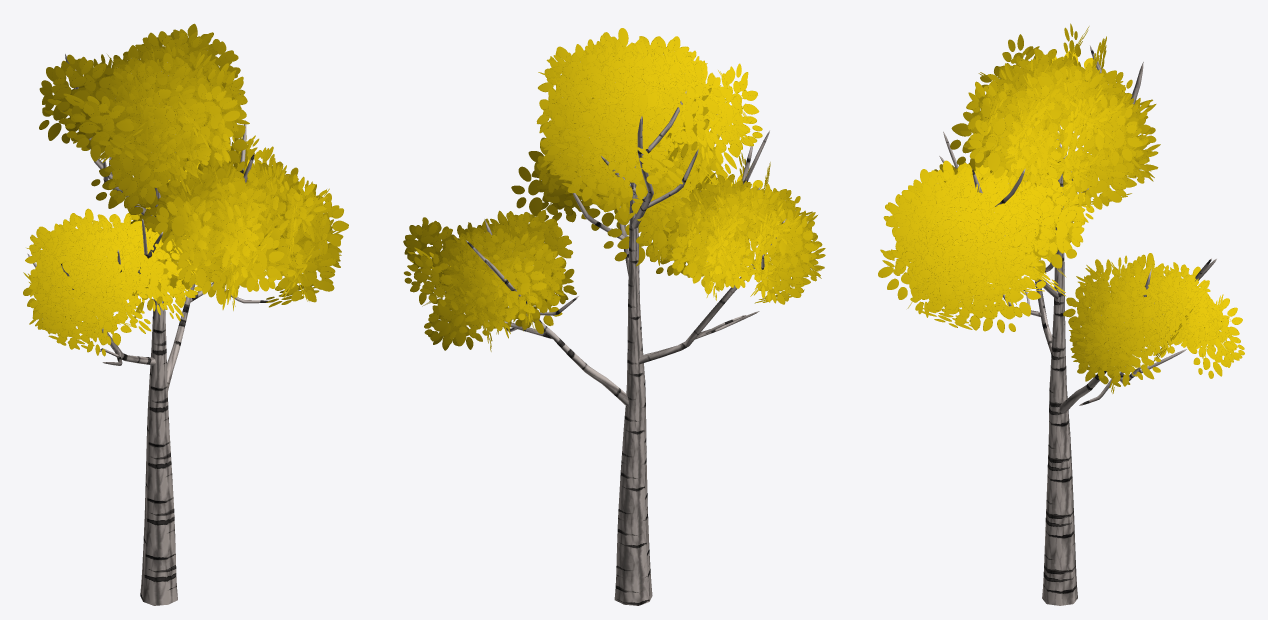
File: birch_tree_5.gltf
3 renders of one model, left to right at view 1: azimuth 30°, elevation 25°; view 2: azimuth 150°, elevation 25°; view 3: azimuth 270°, elevation 25°, orthographic. The views are drawn at different scales.
Parts seen in each view (by area): view 1: BirchTree_5; view 2: BirchTree_5; view 3: BirchTree_5.
Boxes of the visible parts, x1,y1,x2,y2 form: BirchTree_5: (23,23,348,605); BirchTree_5: (403,28,825,605); BirchTree_5: (878,23,1244,605).
Bounding box in the file's own units: 3.58 × 5.52 × 3.51.
Materials: 2 (2 with a texture image).
